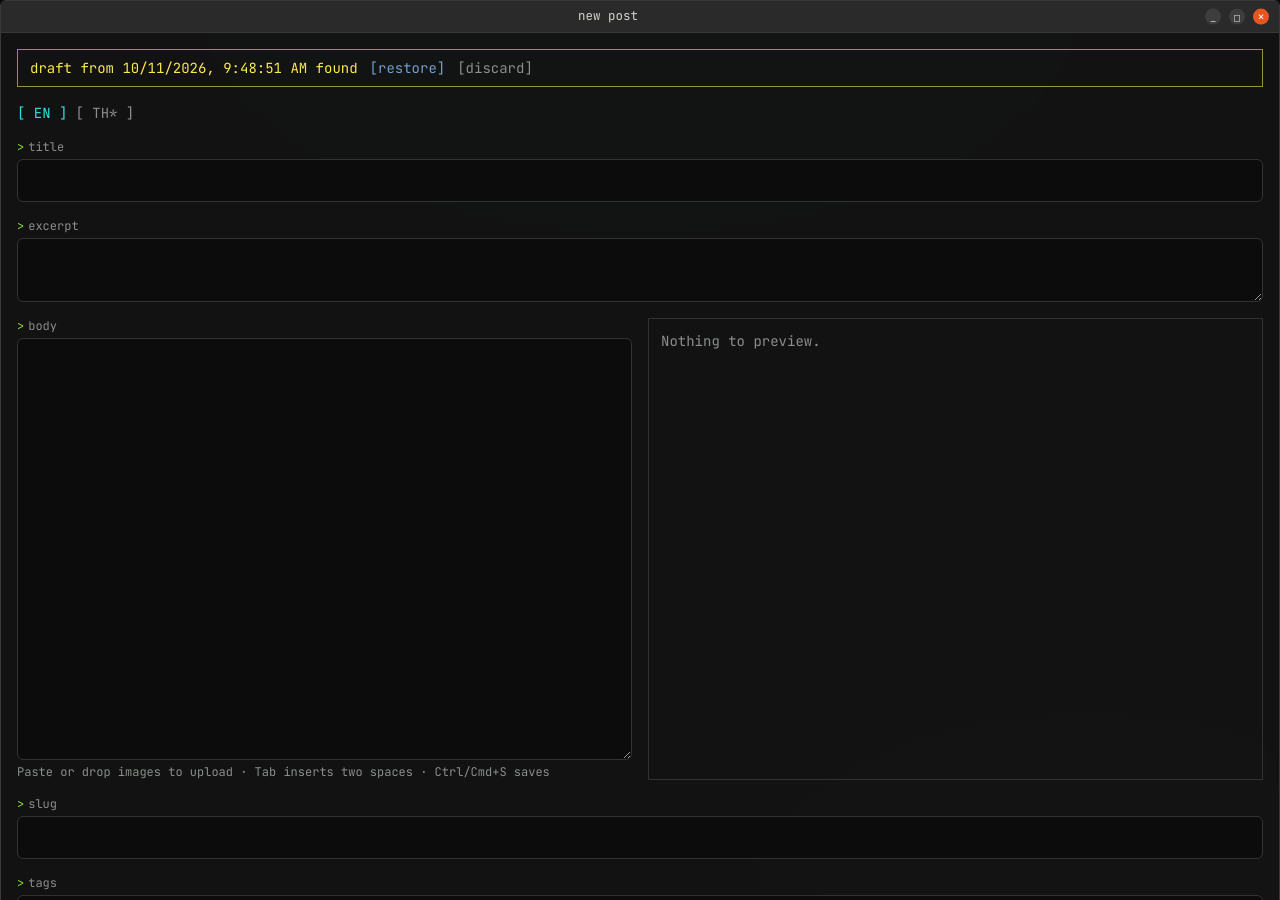
offers to restore an autosaved draft
Click the button "[restore]" at (407, 68), box [370,58,445,78]
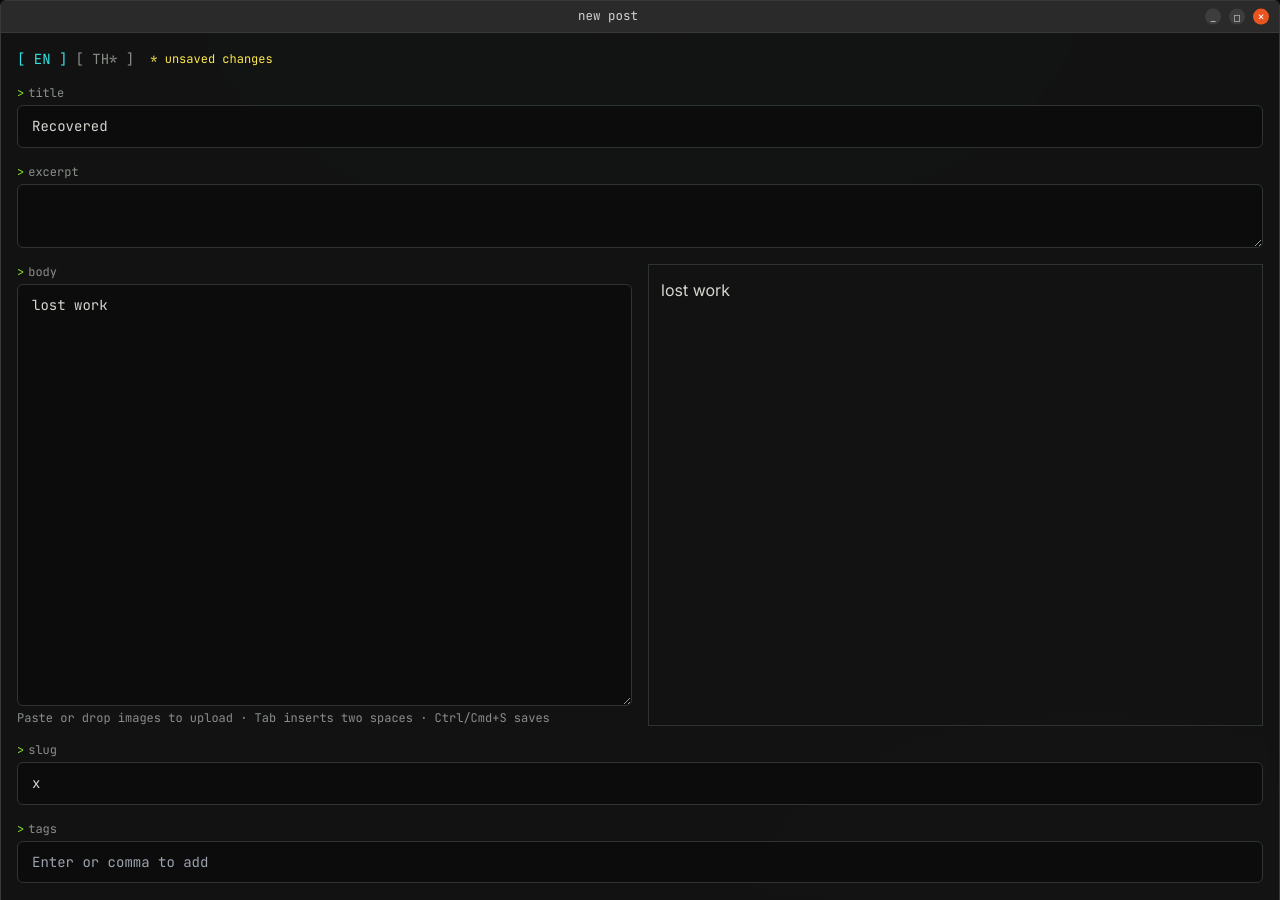
Check: the text box labelled "body" holds "lost work", box [17,284,632,706]
